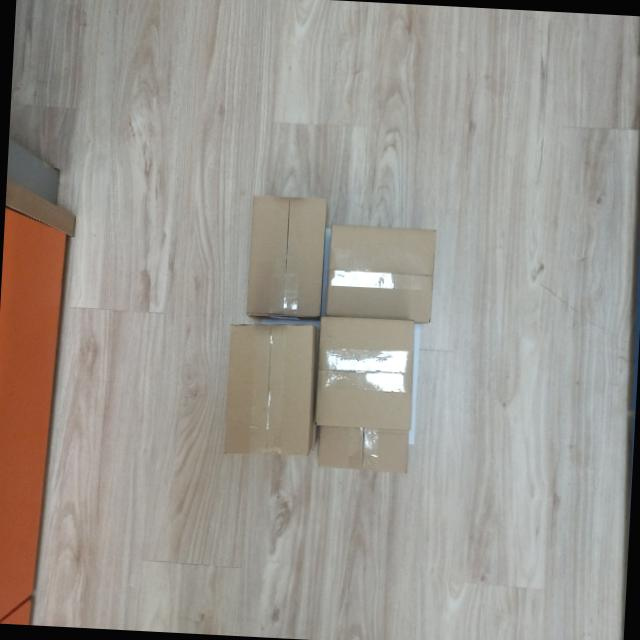box: (220, 322, 317, 459), (313, 318, 419, 432), (324, 223, 439, 326), (247, 194, 328, 321)
